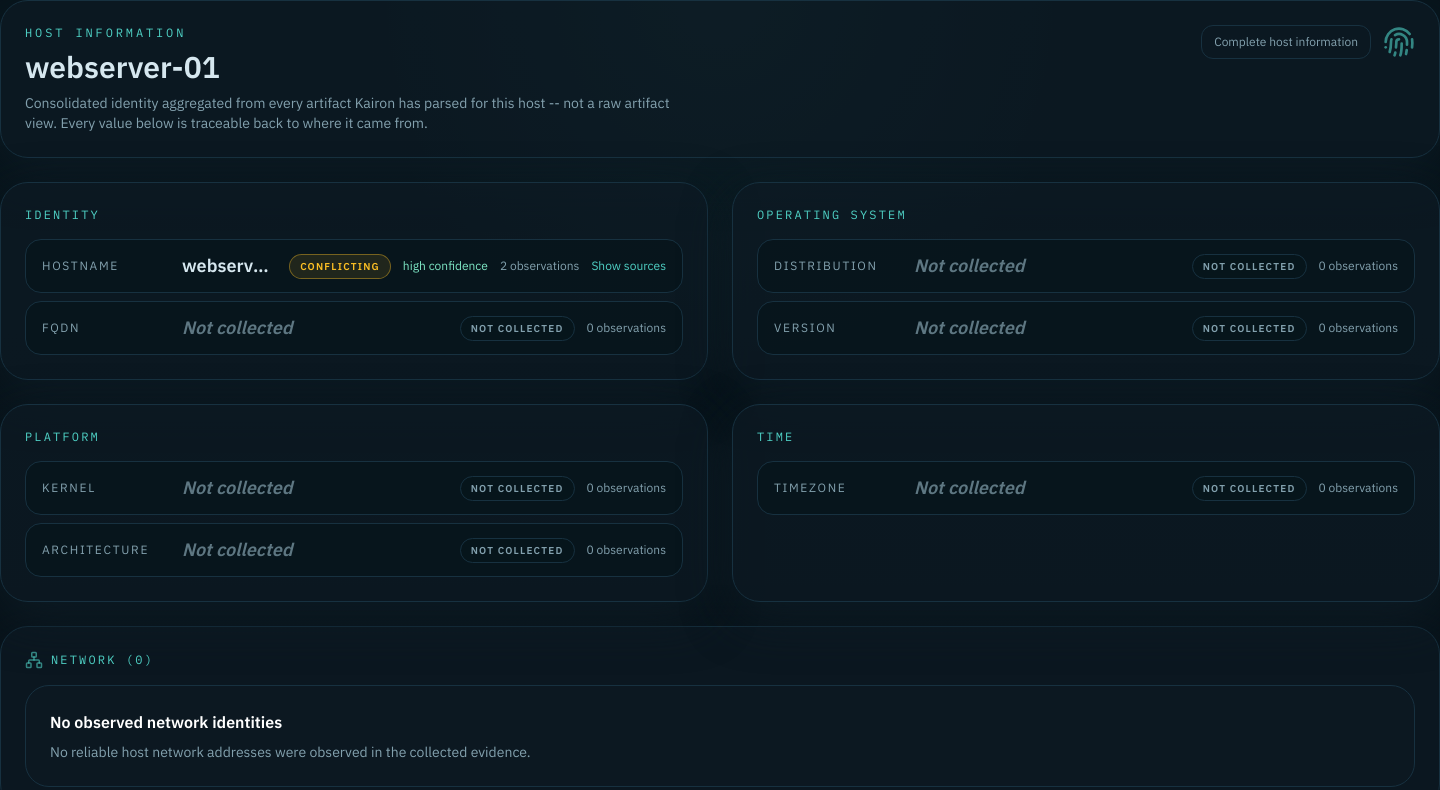
Scenario: HostInformationPage › shows conflicting observations as visually distinct groups, never merged
Check: the element with test id "host-fact-groups" is shown, box [0,182,1439,602]
Click the text "Show sources".
click(629, 266)  # box [591,258,666,274]
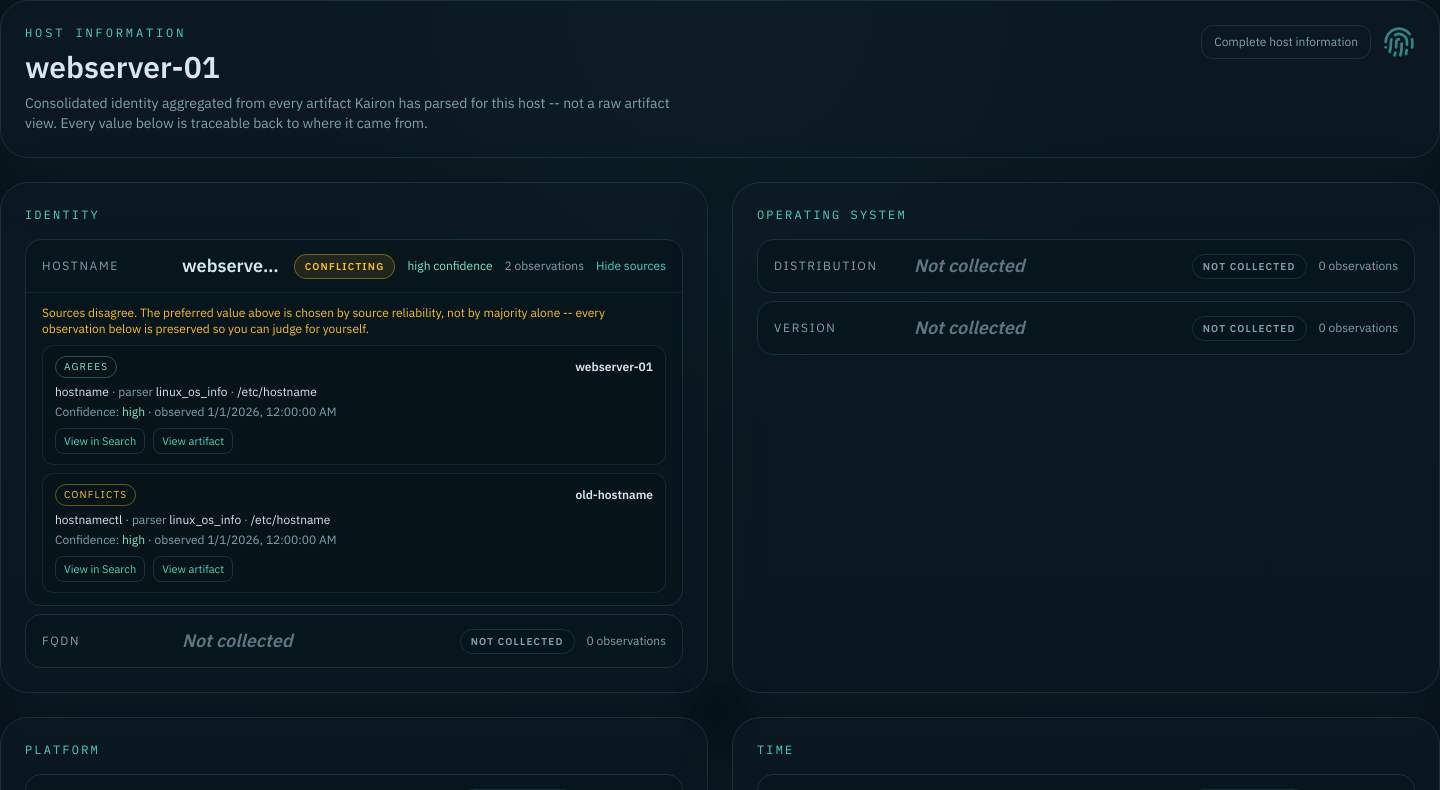
Check: the text "webserver-01" is shown, box [575,359,653,375]
Check: the text "old-hostname" is shown, box [575,487,653,503]
